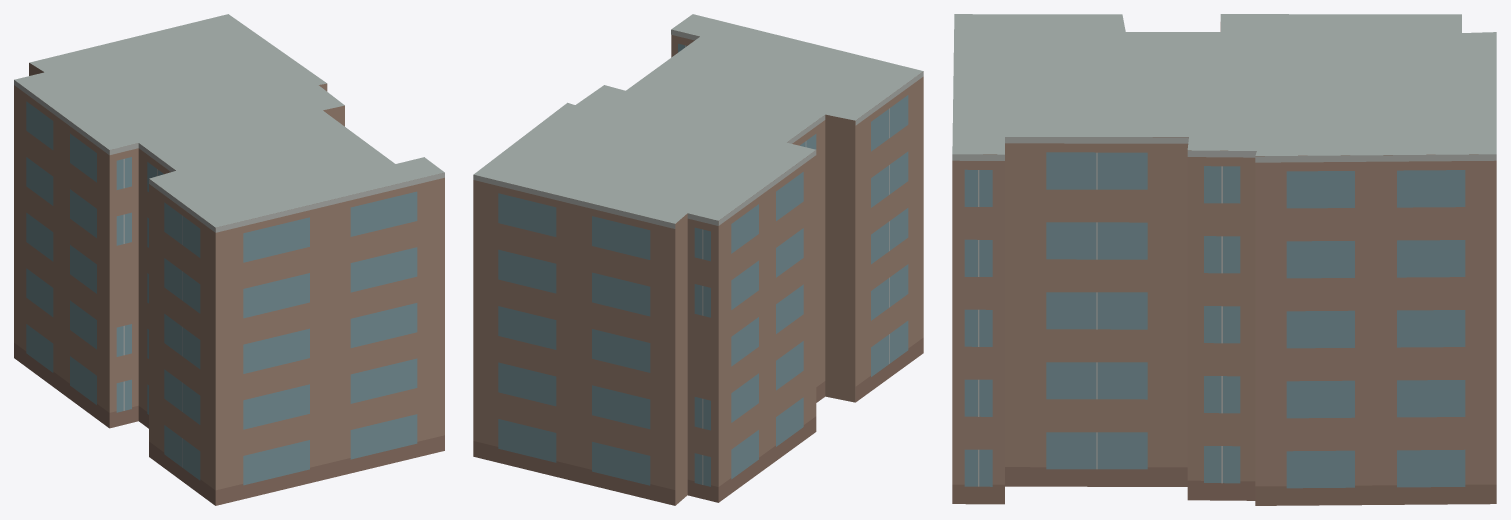
Rendered from survey-upis-32611578.glb.
3 views of the same model, side by side, from view 1: azimuth 30°, elevation 25°; view 2: azimuth 150°, elevation 25°; view 3: azimuth 270°, elevation 25° (orthographic). The views are drawn at different scales.
Visible parts, largest first — view 1: survey-upis-32611578.tmp; view 2: survey-upis-32611578.tmp; view 3: survey-upis-32611578.tmp.
Boxes of the visible parts, bbox=[...] form: survey-upis-32611578.tmp: bbox=[14, 14, 444, 505]; survey-upis-32611578.tmp: bbox=[473, 14, 923, 505]; survey-upis-32611578.tmp: bbox=[952, 14, 1496, 505].
Size of the model in its own units: 11.34 by 13 by 18.34.
